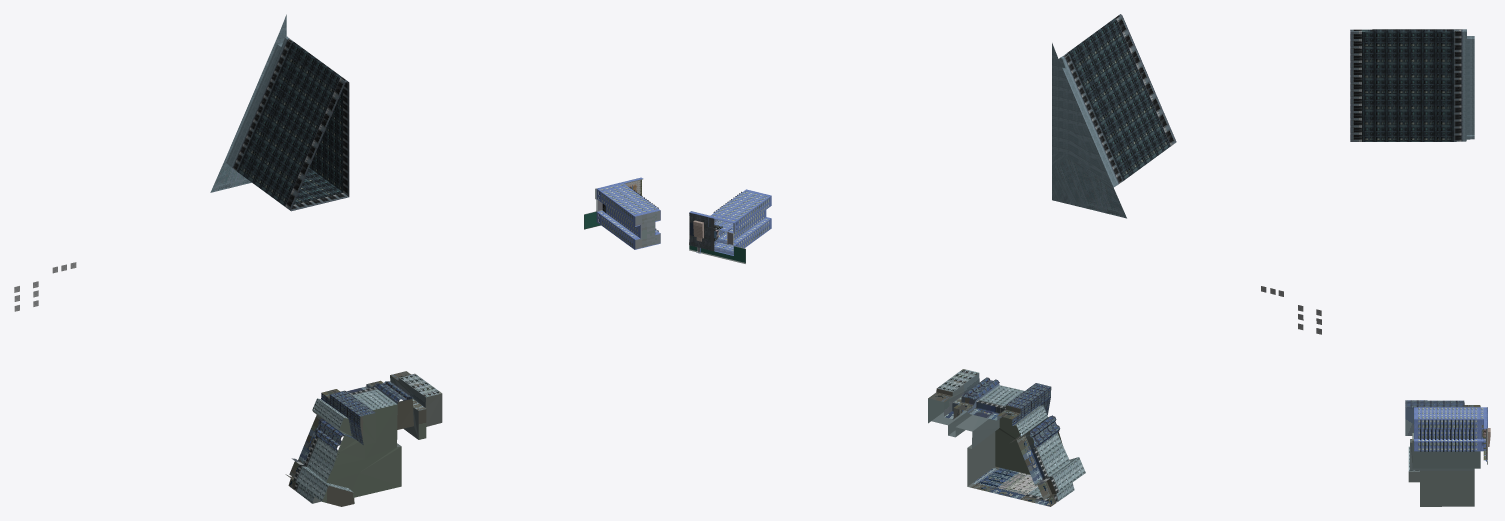
The model's file is comnbtm_comnbtm__part_14.obj.
3 renders of one model, left to right at view 1: azimuth 30°, elevation 25°; view 2: azimuth 150°, elevation 25°; view 3: azimuth 270°, elevation 25°, orthographic. The views are drawn at different scales.
Visible parts, largest first — view 1: comnbtm_comnbtm__part_14; view 2: comnbtm_comnbtm__part_14; view 3: comnbtm_comnbtm__part_14.
Part boxes in pixels (x1,y1,x2,y2): comnbtm_comnbtm__part_14: (14, 14, 660, 506); comnbtm_comnbtm__part_14: (689, 14, 1321, 506); comnbtm_comnbtm__part_14: (1350, 29, 1490, 506).
Size of the model in its own units: 517 by 368 by 104.
48 materials, 48 textured.
